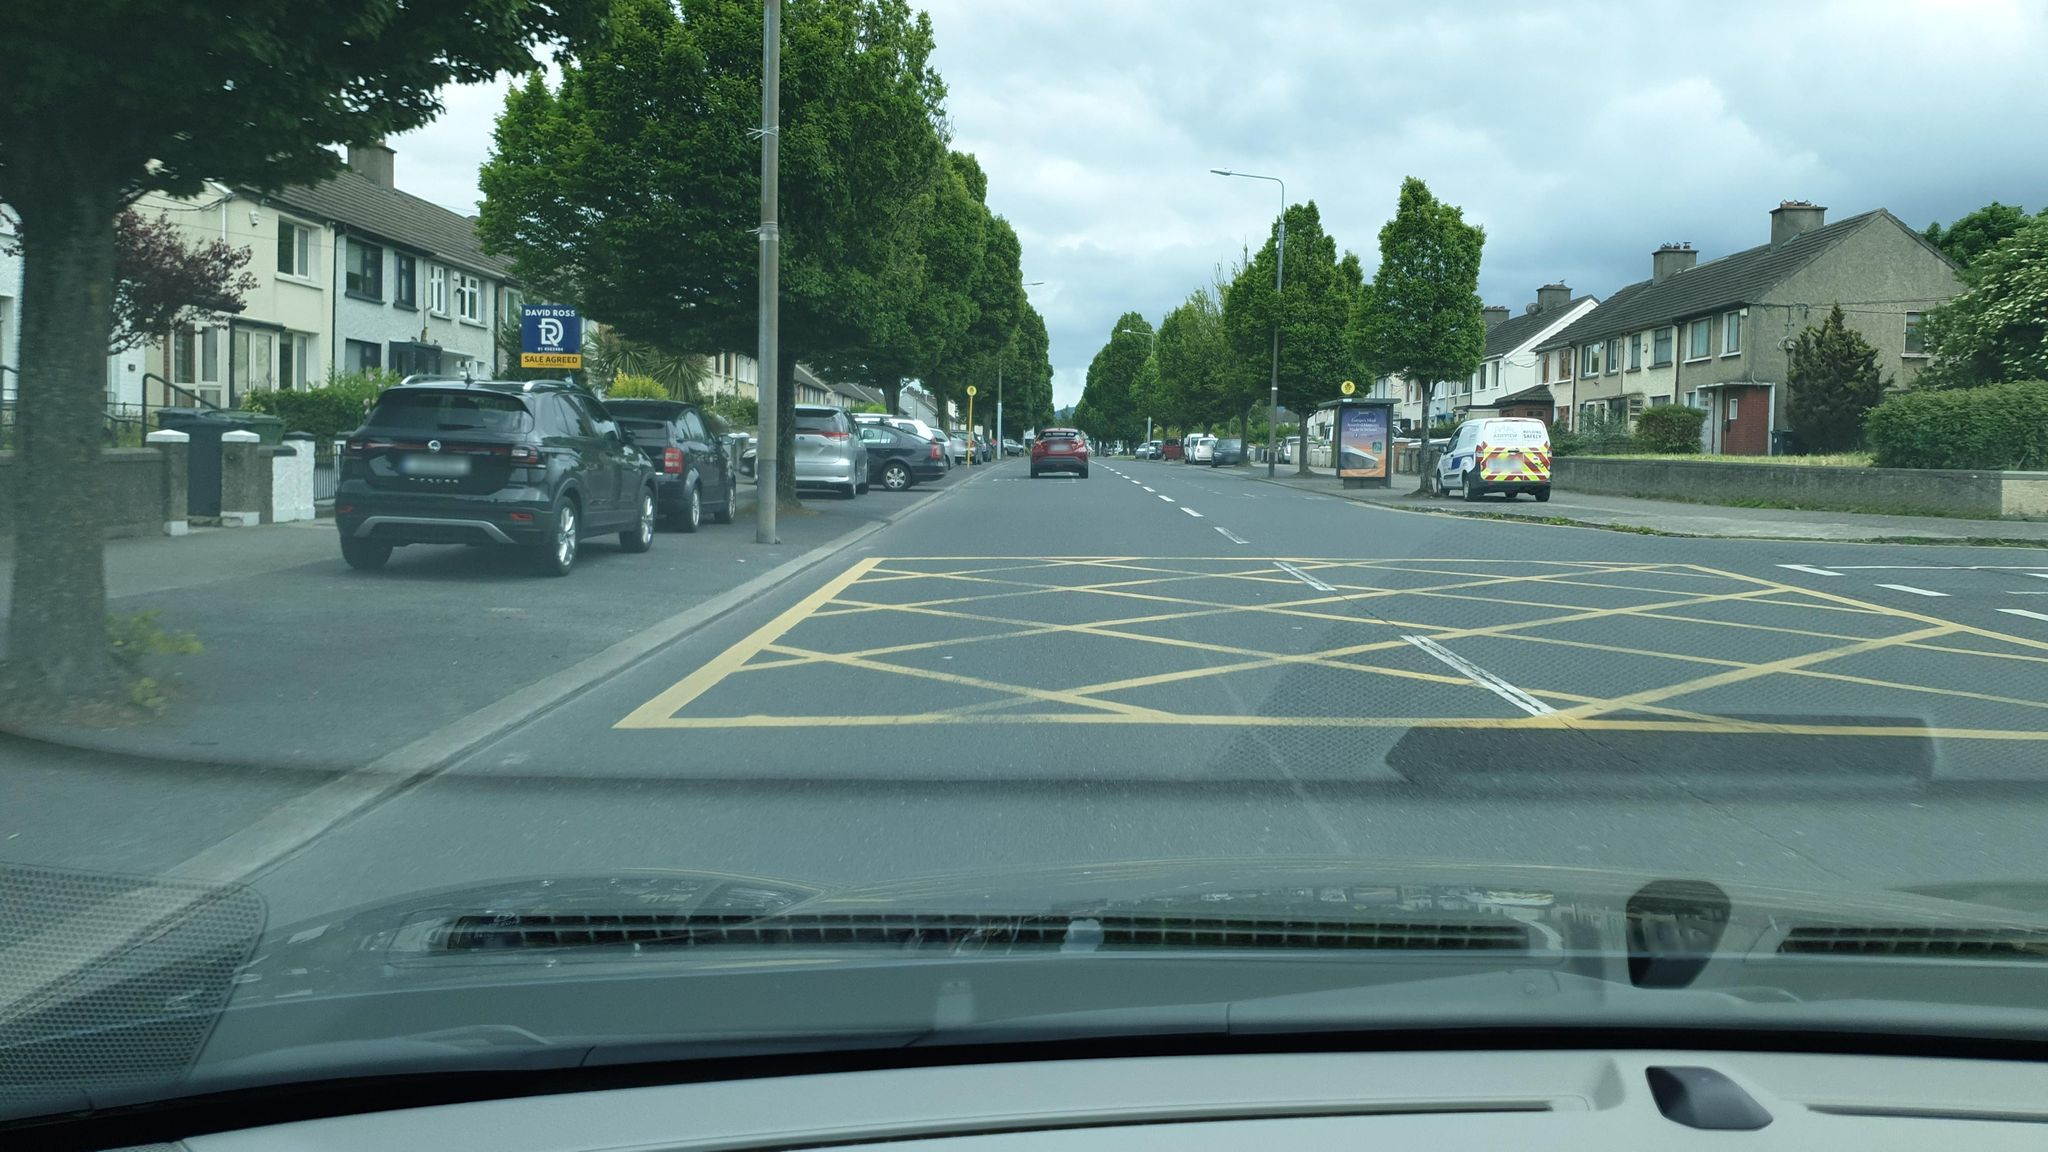property sign: (513, 279, 584, 380)
